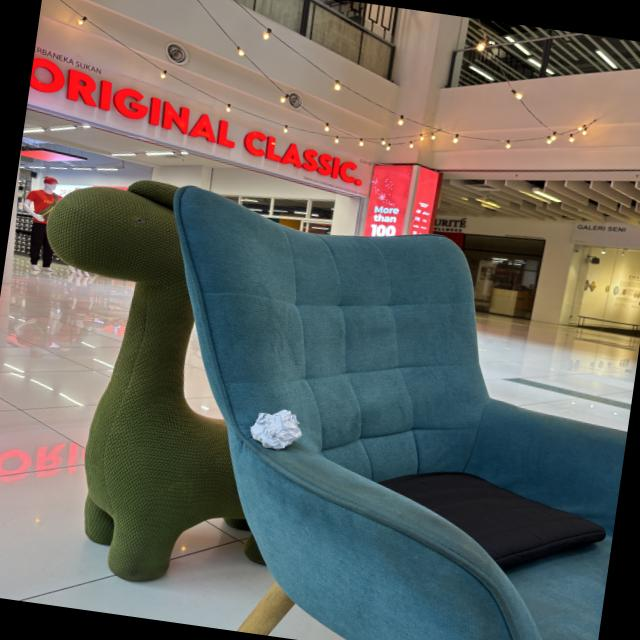crumpled_paper: (245, 400, 308, 458)
